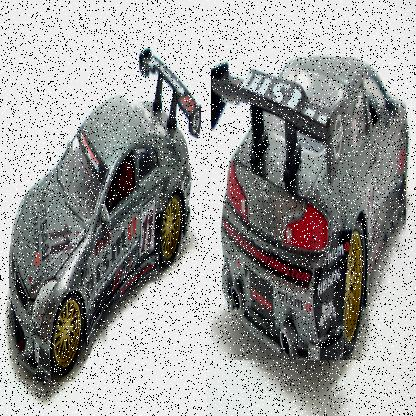Car: (9, 51, 201, 384), (211, 58, 407, 362)
